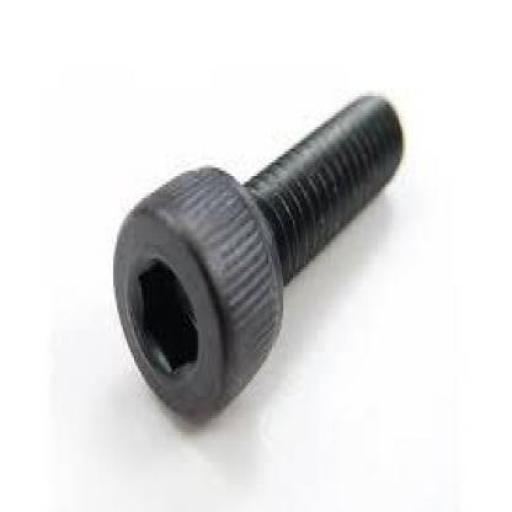Bolt: (111, 90, 406, 427)
